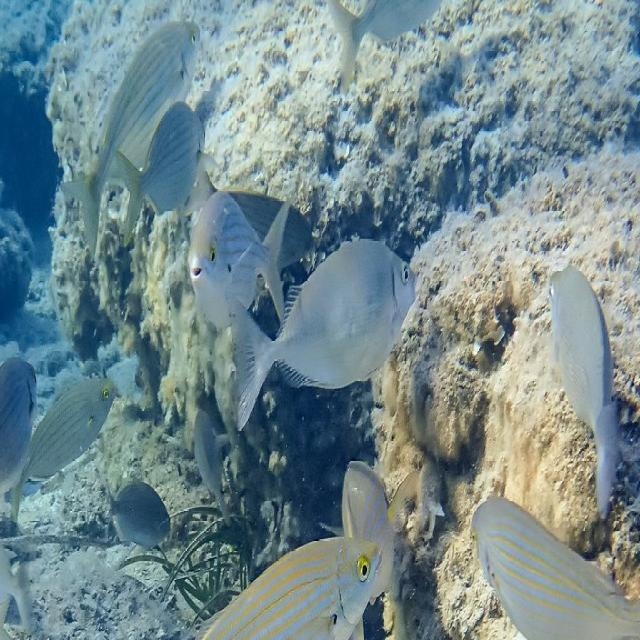Sokar Baligi: (221, 230, 423, 438), (542, 252, 640, 522), (0, 359, 124, 538)
